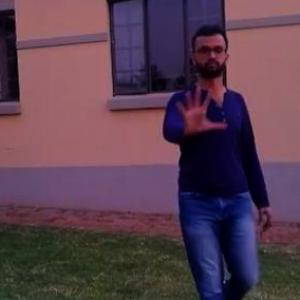follow_hand: (169, 82, 228, 140)
